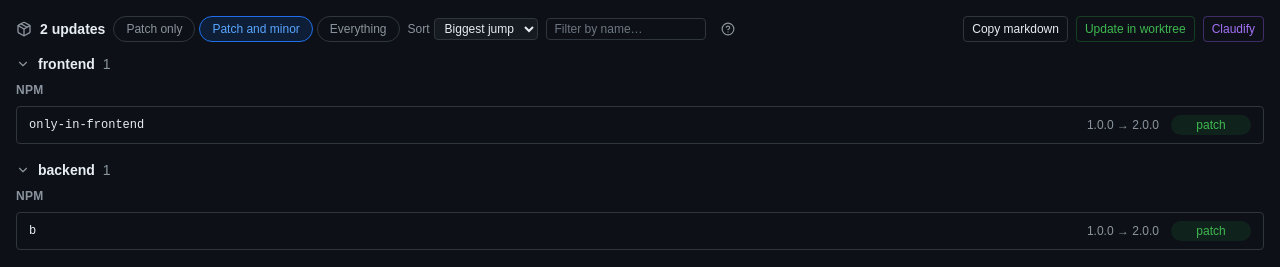
PackagesPage grouping, sorting, and Claudify › collapses a project group
The image size is (1280, 267).
Check: the text "only-in-frontend" is shown, box [29,118,144,132]
Click the button "frontend 1" at coordinates (66, 64), box [16,54,1264,74]
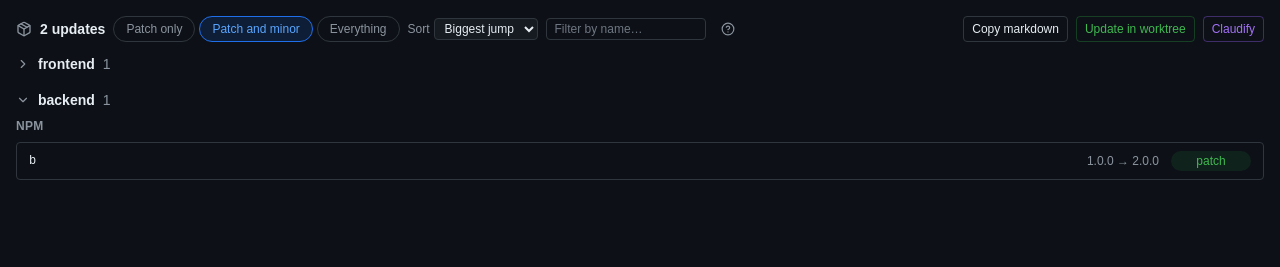
Check: the text "only-in-frontend" is gone
